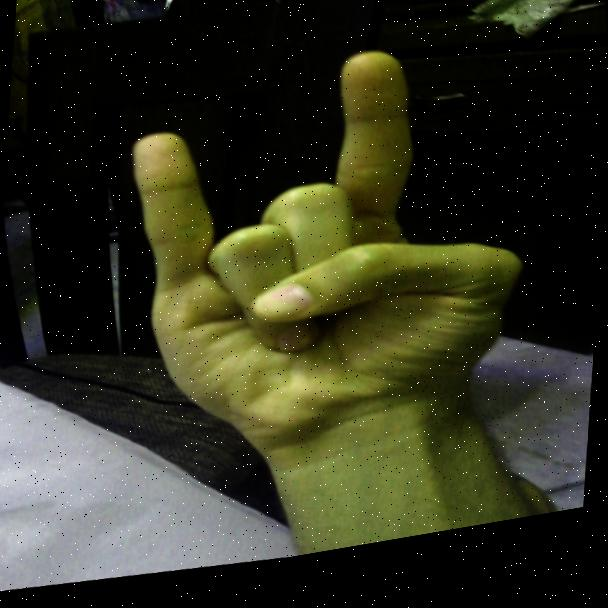five: (151, 33, 537, 425)
